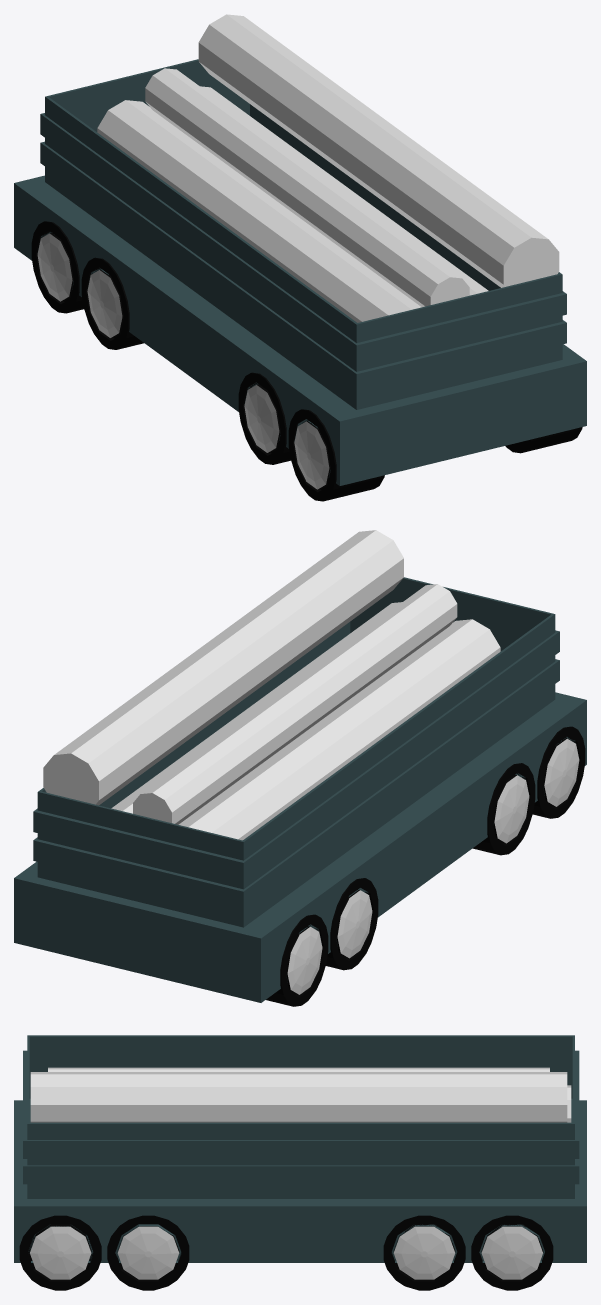
The model's file is BackTruck_03.fbx.
The picture shows the model from 3 angles, top to bottom: view 1: azimuth 30°, elevation 25°; view 2: azimuth 150°, elevation 25°; view 3: azimuth 270°, elevation 25°; orthographic projection. The views are drawn at different scales.
Visible parts, largest first — view 1: BackTruck_03; view 2: BackTruck_03; view 3: BackTruck_03.
Boxes of the visible parts, box(x1,y1,x2,y2) form: BackTruck_03: box(14, 14, 586, 501); BackTruck_03: box(14, 530, 586, 1006); BackTruck_03: box(14, 1035, 586, 1290).
Size of the model in its own units: 618 by 518 by 1370.
